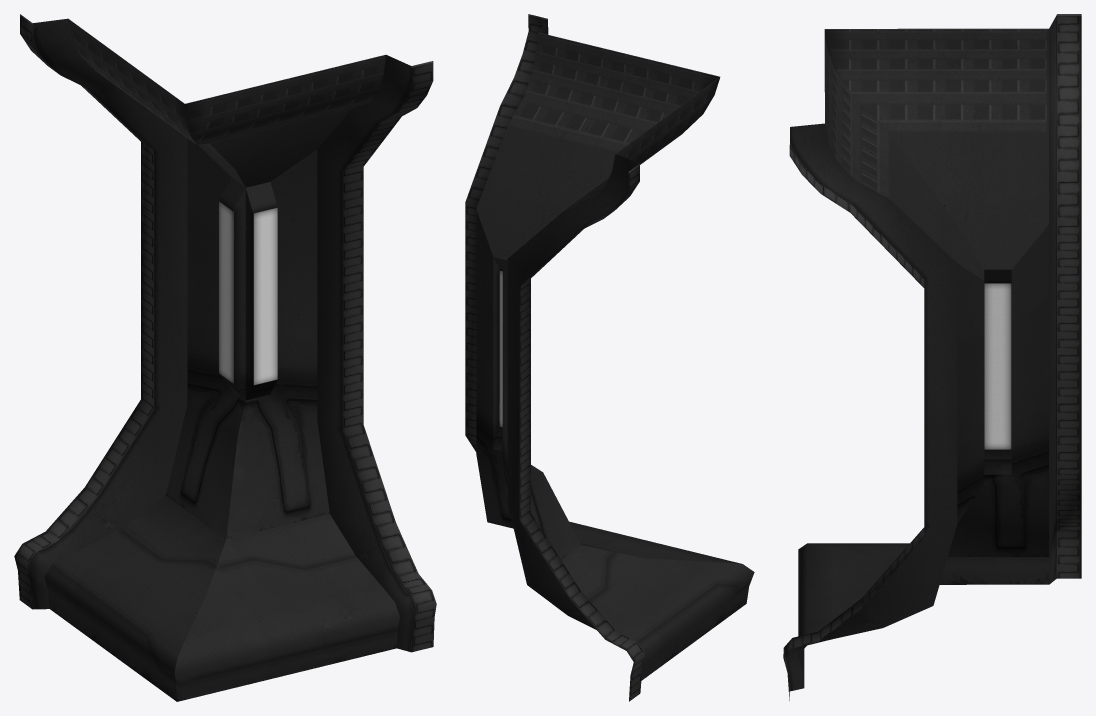
The model's file is WallCorner.fbx.
The picture shows the model from 3 angles, left to right: view 1: azimuth 30°, elevation 25°; view 2: azimuth 150°, elevation 25°; view 3: azimuth 270°, elevation 25°; orthographic projection. The views are drawn at different scales.
Visible parts, largest first — view 1: WallCorner; view 2: WallCorner; view 3: WallCorner.
Boxes of the visible parts, x1,y1,x2,y2 form: WallCorner: [14, 14, 436, 701]; WallCorner: [465, 14, 754, 701]; WallCorner: [783, 14, 1081, 700].
Bounding box in the file's own units: 2.1 × 4.4 × 2.1.
